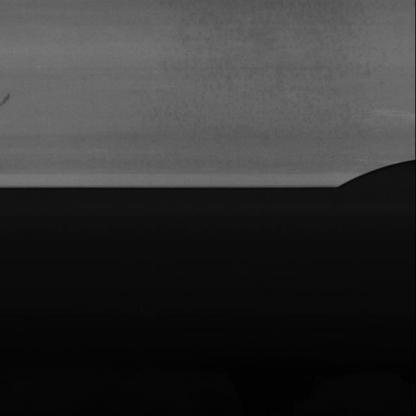crescent_gap: (316, 149, 416, 199)
